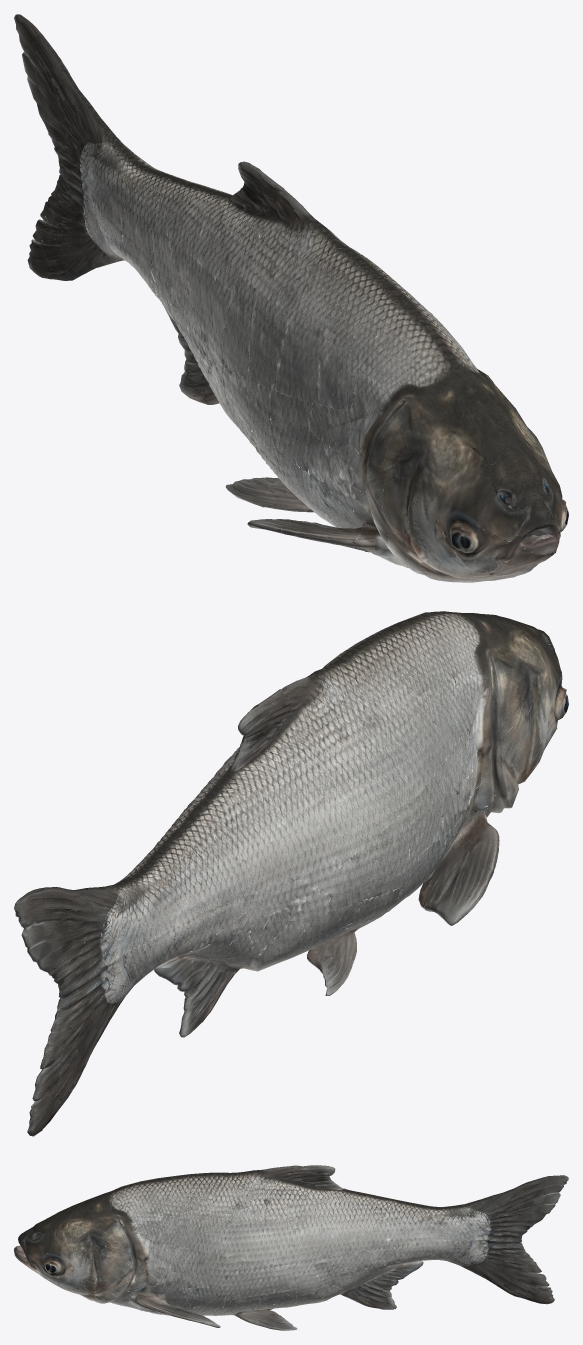
File: tolpyga_biala.glb
3 renders of one model, top to bottom at view 1: azimuth 30°, elevation 25°; view 2: azimuth 150°, elevation 25°; view 3: azimuth 270°, elevation 25°, orthographic. The views are drawn at different scales.
Parts seen in each view (by area): view 1: Mesh_0; view 2: Mesh_0; view 3: Mesh_0.
Part boxes in pixels (x1,y1,x2,y2): Mesh_0: (14,14,568,582); Mesh_0: (14,611,568,1136); Mesh_0: (14,1165,568,1330).
Bounding box in the file's own units: 0.4574 × 0.5811 × 1.9.
1 material, 1 textured.
